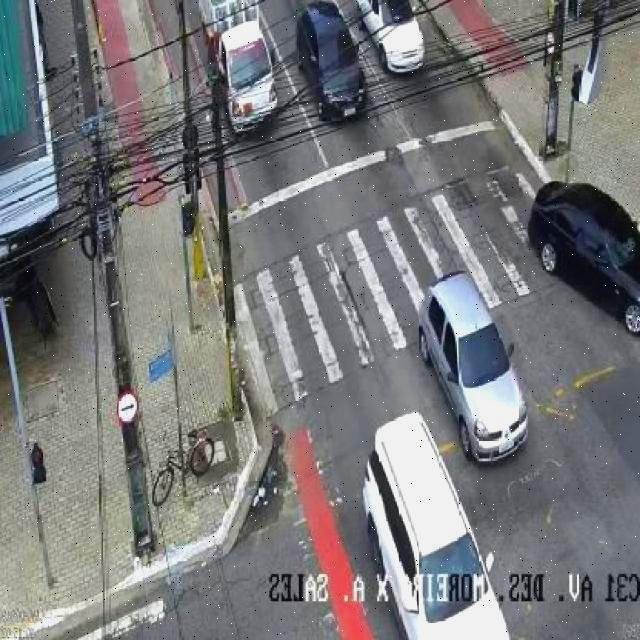Car: (362, 410, 509, 640), (414, 271, 533, 463), (528, 174, 640, 337), (298, 1, 369, 124), (355, 0, 426, 75)
Cycle: (151, 430, 215, 508)
Truck: (195, 0, 279, 137)
